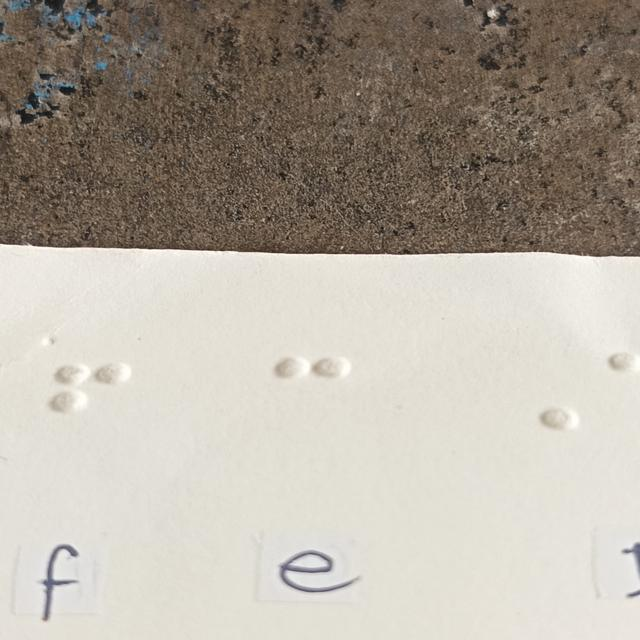e: (274, 359, 352, 440)
f: (51, 362, 129, 443)
